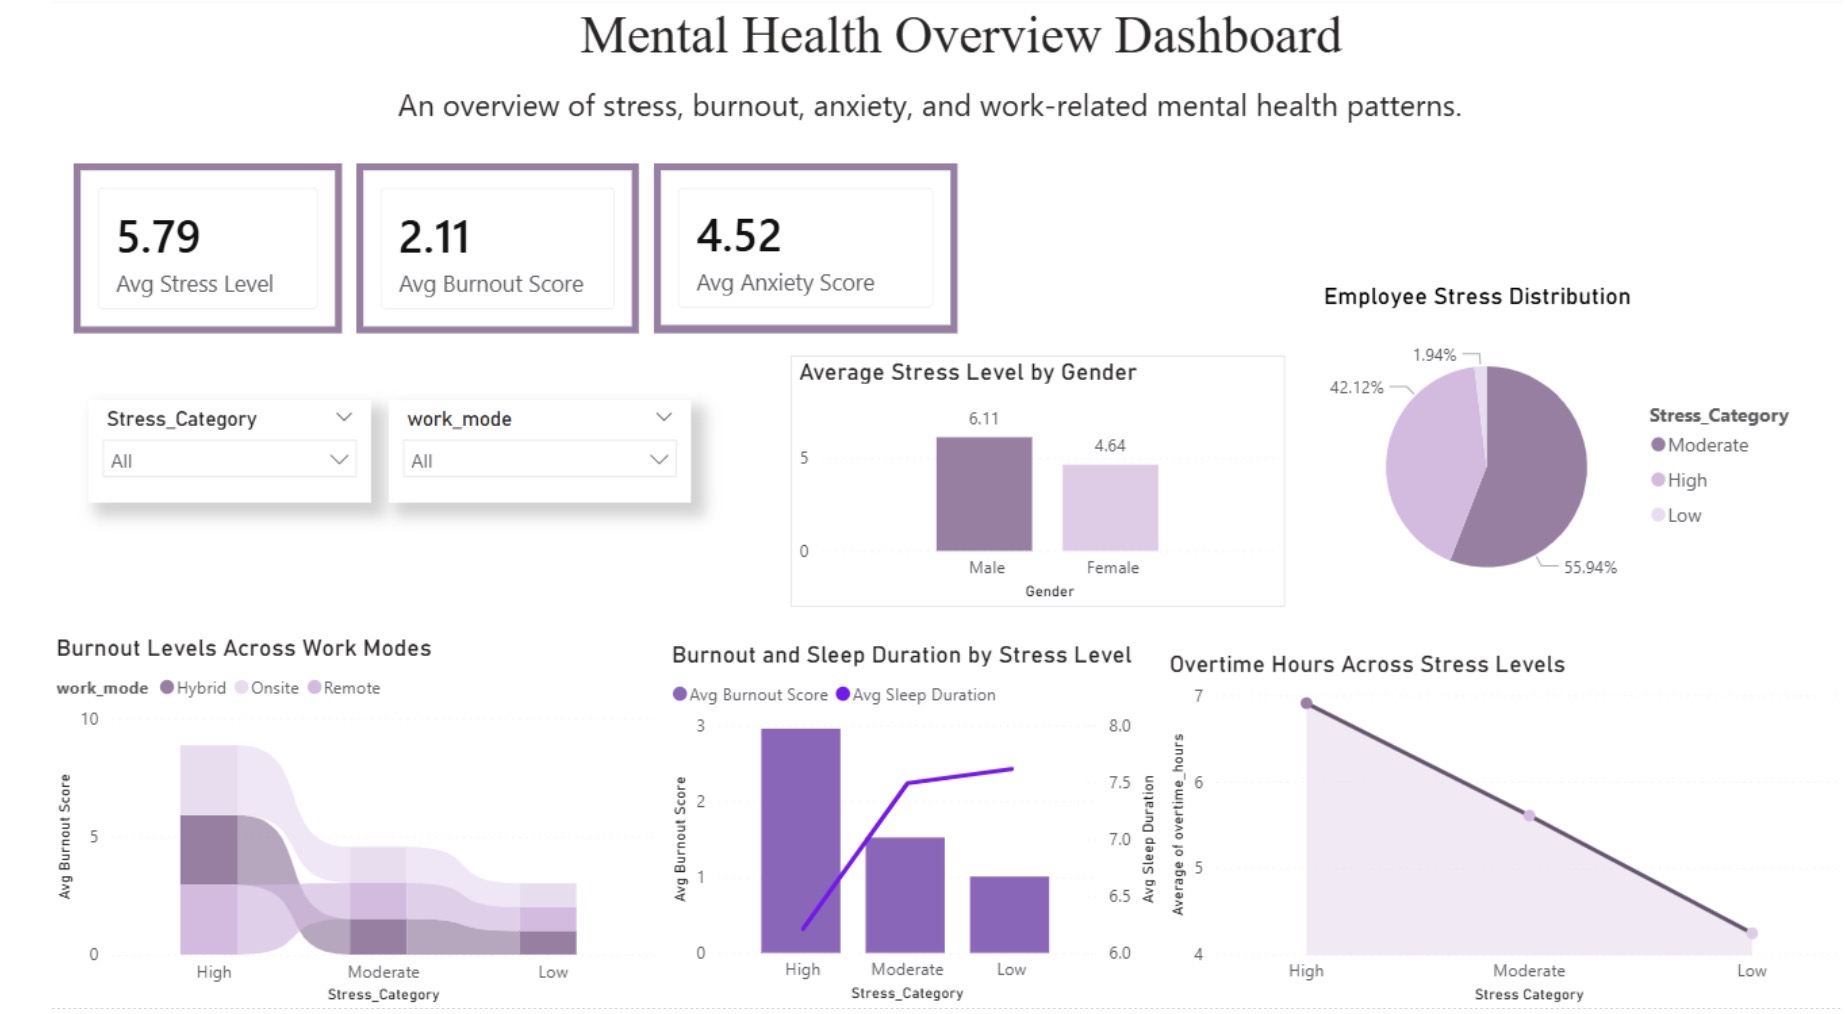

Layout of this report page (visuals, bound fields, positions):
{"tool":"powerbi","page":{"name":"Page 1","canvas":[1280,720],"ordinal":0},"visuals":[{"type":"columnChart","title":"Average Stress Level by Gender","fields":{"Category":["Sleep_health_and_lifestyle_data.Gender"],"Y":["Avg(Sleep_health_and_lifestyle_data.Stress_Level)"]},"box":[527.9,254.7,352.3,179.1],"z":0},{"type":"areaChart","title":"Overtime Hours Across Stress Levels","fields":{"Category":["Stress_Dim.Stress_Category"],"Y":["Avg(tech_mental_health_burnout.overtime_hours)"]},"box":[792,464,488,256],"z":1000},{"type":"slicer","fields":{"Values":["Stress_Dim.Stress_Category"]},"box":[27.9,287.2,201.2,73.3],"z":2000},{"type":"pieChart","title":"Employee Stress Distribution","fields":{"Category":["tech_mental_health_burnout.Stress_Category"],"Y":["CountNonNull(tech_mental_health_burnout.work_life_balance)"]},"box":[902.3,202.3,347.7,245.3],"z":3000},{"type":"cardVisual","fields":{"Data":["Sleep_health_and_lifestyle_data.Avg Stress Level"]},"box":[17.1,118.6,191.4,121.4],"z":4000},{"type":"cardVisual","fields":{"Data":["Sleep_health_and_lifestyle_data.Avg Burnout Score"]},"box":[218.6,118.6,201.4,121.4],"z":5000},{"type":"cardVisual","fields":{"Data":["Sleep_health_and_lifestyle_data.Avg Anxiety Score"]},"box":[430.2,118.6,216.3,120.9],"z":6000},{"type":"slicer","fields":{"Values":["tech_mental_health_burnout.work_mode"]},"box":[241.9,287.2,215.1,73.3],"z":7000},{"type":"textbox","box":[105.7,0,1067.1,67.1],"z":8000},{"type":"textbox","box":[208.6,57.1,835.7,40],"z":9000},{"type":"ribbonChart","title":"Burnout Levels Across Work Modes","fields":{"Y":["Sleep_health_and_lifestyle_data.Avg Burnout Score"],"Category":["Stress_Dim.Stress_Category"],"Series":["tech_mental_health_burnout.work_mode"]},"box":[0,452,436,268],"z":10000},{"type":"lineClusteredColumnComboChart","title":"Burnout and Sleep Duration by Stress Level","fields":{"Category":["Stress_Dim.Stress_Category"],"Y":["Sleep_health_and_lifestyle_data.Avg Burnout Score"],"Y2":["Sleep_health_and_lifestyle_data.Avg Sleep Duration"]},"box":[437.6,457.3,354.3,262],"z":11000}]}

Visuals, with their boxes in screenshot pixels (x1, y1, x2, y2), scaled from the page's 1280x720 canvas onto the 1845x1014 screenshot:
"Average Stress Level by Gender" columnChart: [x1=761, y1=359, x2=1269, y2=611]
"Overtime Hours Across Stress Levels" areaChart: [x1=1142, y1=653, x2=1844, y2=1013]
slicer - Stress_Dim.Stress_Category: [x1=40, y1=404, x2=330, y2=508]
"Employee Stress Distribution" pieChart: [x1=1301, y1=285, x2=1802, y2=630]
cardVisual - Sleep_health_and_lifestyle_data.Avg Stress Level: [x1=25, y1=167, x2=301, y2=338]
cardVisual - Sleep_health_and_lifestyle_data.Avg Burnout Score: [x1=315, y1=167, x2=605, y2=338]
cardVisual - Sleep_health_and_lifestyle_data.Avg Anxiety Score: [x1=620, y1=167, x2=932, y2=337]
slicer - tech_mental_health_burnout.work_mode: [x1=349, y1=404, x2=659, y2=508]
textbox: [x1=152, y1=0, x2=1690, y2=94]
textbox: [x1=301, y1=80, x2=1505, y2=137]
"Burnout Levels Across Work Modes" ribbonChart: [x1=0, y1=637, x2=628, y2=1013]
"Burnout and Sleep Duration by Stress Level" lineClusteredColumnComboChart: [x1=631, y1=644, x2=1141, y2=1013]
